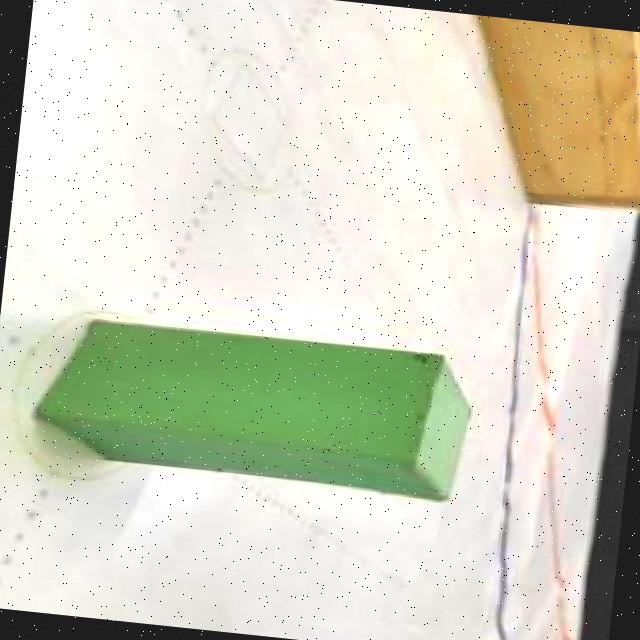greenbox: (21, 306, 480, 508)
